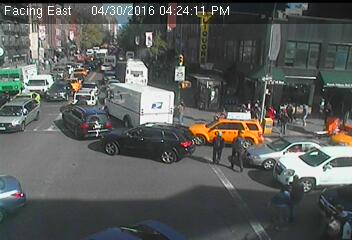neg: (192, 23, 221, 61), (147, 22, 173, 56), (81, 117, 105, 150), (26, 116, 50, 149), (162, 136, 186, 167), (53, 88, 75, 116), (87, 21, 108, 49), (130, 23, 150, 50), (143, 134, 163, 160), (72, 26, 89, 48), (41, 27, 57, 49), (29, 23, 45, 44), (176, 30, 192, 51), (24, 64, 38, 83), (57, 24, 70, 42), (114, 27, 127, 44), (117, 127, 129, 144), (16, 42, 26, 56)
pos: (225, 128, 256, 170), (263, 186, 294, 228), (208, 128, 232, 161), (320, 100, 340, 127), (170, 99, 188, 124), (274, 110, 292, 134), (297, 102, 315, 125)
